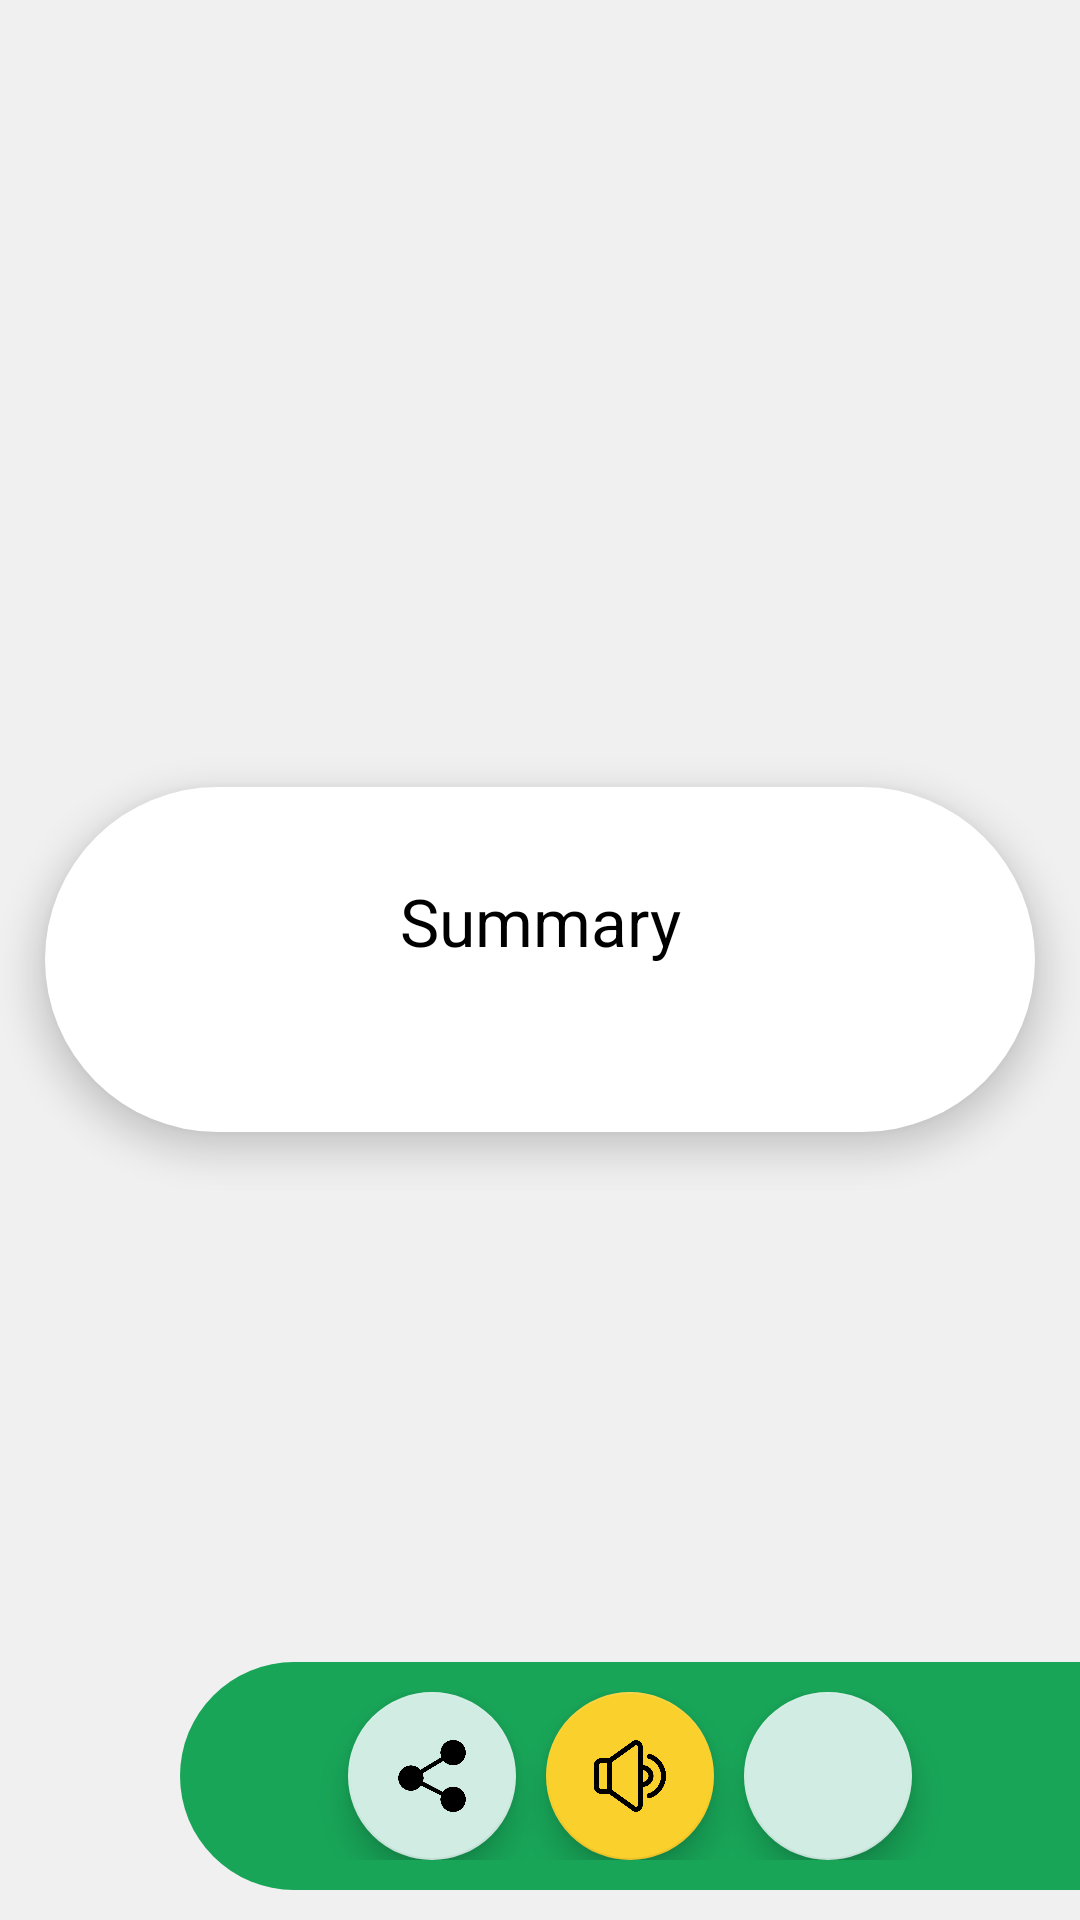

Screen size 1080px x 1920px. Icon name, then its center in pixels as (x,y):
share: (432,1776)
speaker: (630,1776)
